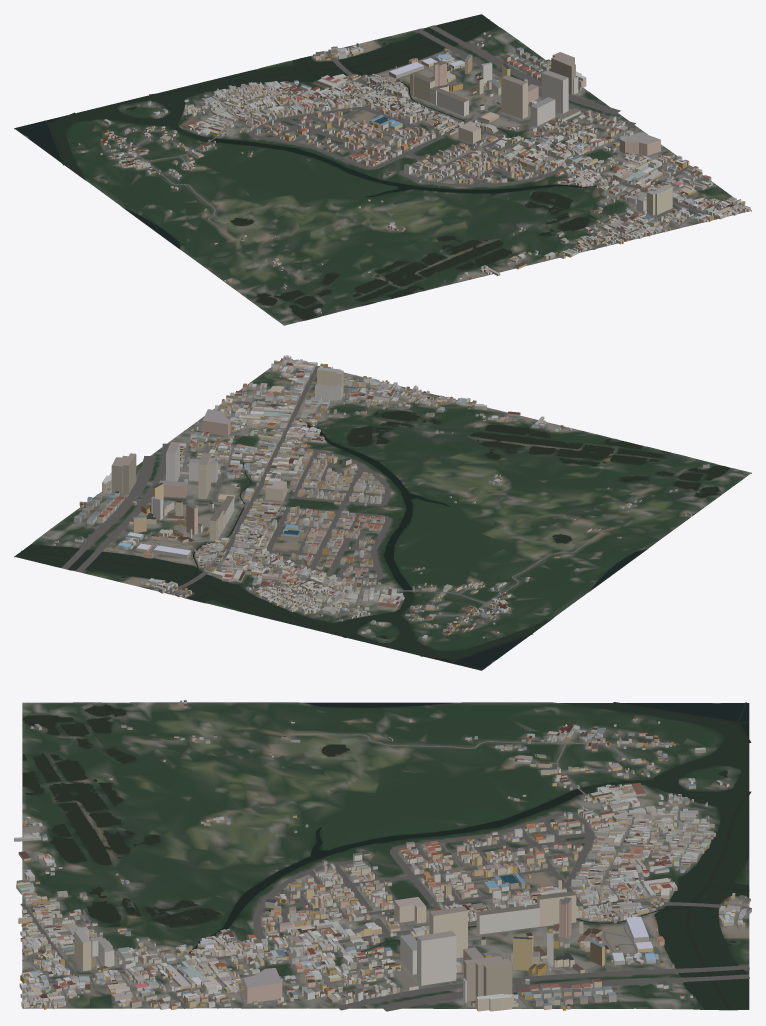
The picture shows the model from 3 angles, top to bottom: view 1: azimuth 30°, elevation 25°; view 2: azimuth 150°, elevation 25°; view 3: azimuth 270°, elevation 25°; orthographic projection. The views are drawn at different scales.
Visible parts, largest first — view 1: ground, buildings, water, roads; view 2: ground, buildings, water, roads; view 3: ground, buildings, water, roads.
Boxes of the visible parts, x1=… form: ground: x1=14, y1=15, x2=751, y2=325; buildings: x1=78, y1=32, x2=750, y2=313; water: x1=15, y1=14, x2=609, y2=319; roads: x1=120, y1=25, x2=725, y2=278; ground: x1=14, y1=358, x2=751, y2=670; buildings: x1=52, y1=355, x2=709, y2=640; water: x1=15, y1=410, x2=729, y2=670; roads: x1=61, y1=366, x2=592, y2=623; ground: x1=22, y1=702, x2=749, y2=1010; buildings: x1=14, y1=700, x2=751, y2=1011; water: x1=23, y1=702, x2=751, y2=1009; roads: x1=20, y1=733, x2=749, y2=1011.
Bounding box in the file's own units: 1418 × 104 × 1422.
